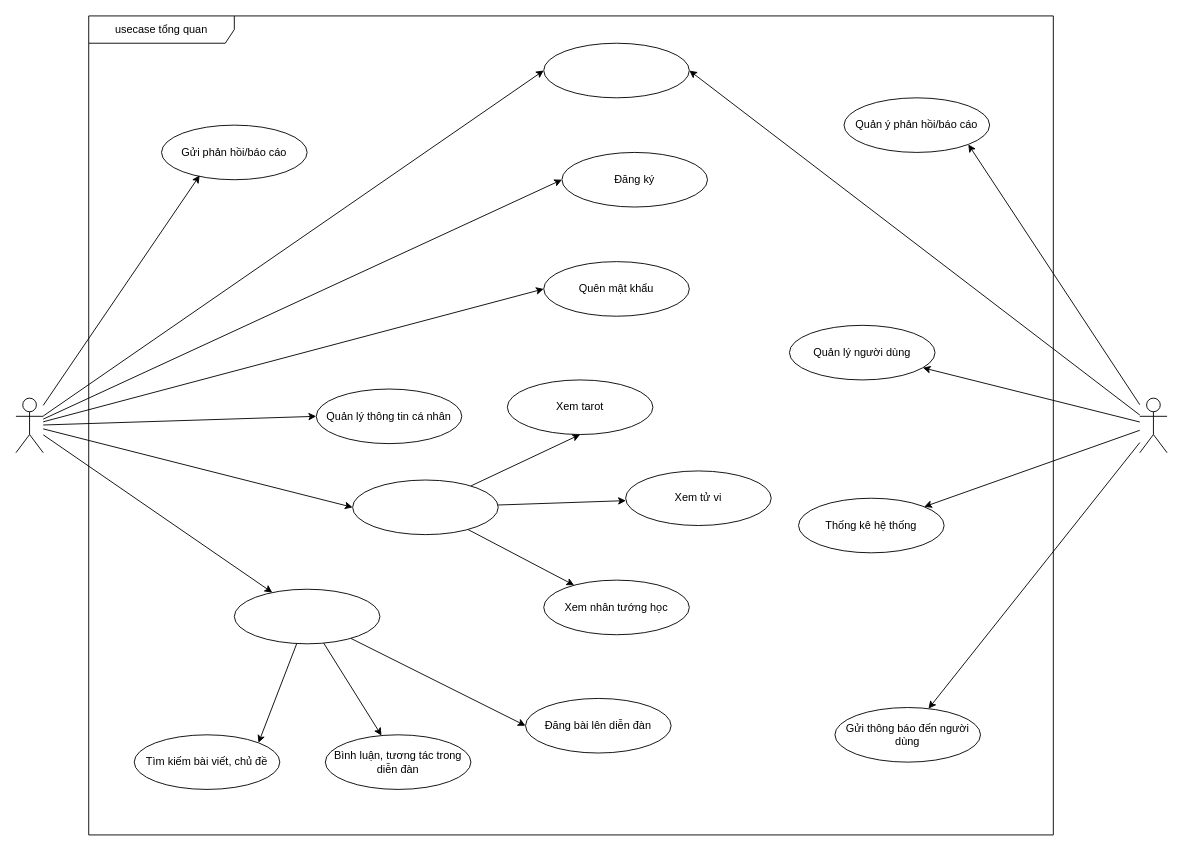
This 1184x851 diagram has some shape labels left out. The centre of each missing label's shape, as x and y in pixels:
"admin" belongs at point (1153, 425).
"Quản lý bài viết" belongs at point (306, 616).
"user" belongs at point (29, 425).
"Xem bói trực tuyến" belongs at point (425, 507).
"Đăng nhập" belongs at point (616, 70).
